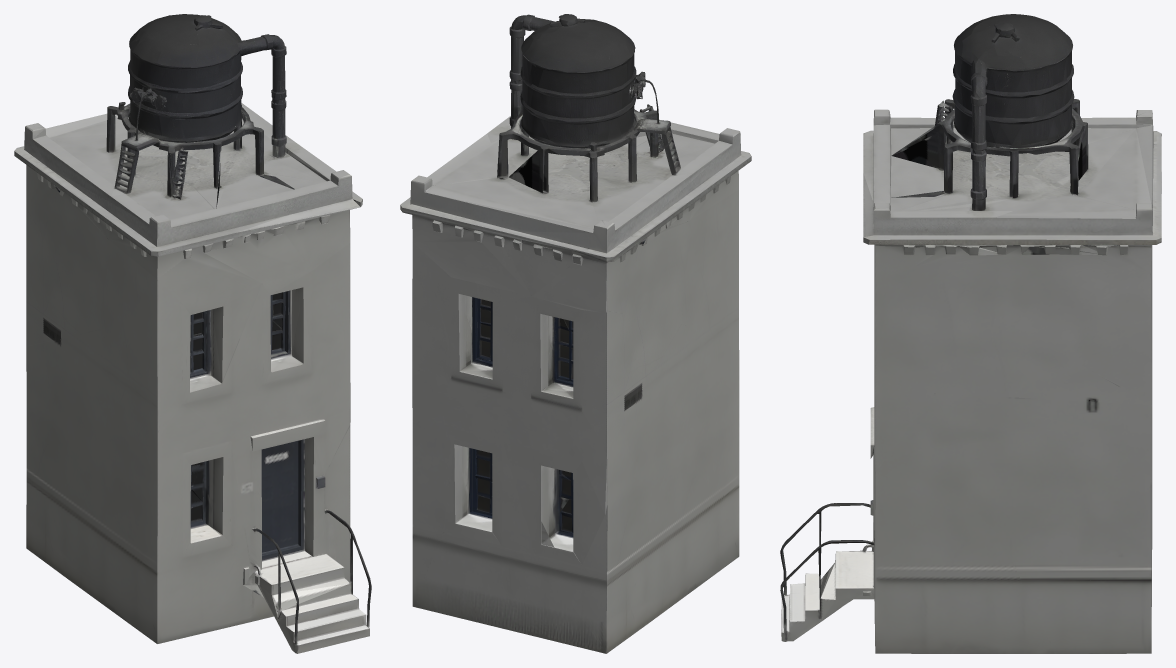
3 renders of one model, left to right at view 1: azimuth 30°, elevation 25°; view 2: azimuth 150°, elevation 25°; view 3: azimuth 270°, elevation 25°, orthographic. The views are drawn at different scales.
Visible parts, largest first — view 1: output_unwrapped; view 2: output_unwrapped; view 3: output_unwrapped.
Boxes of the visible parts, bbox=[...] form: output_unwrapped: bbox=[14, 14, 371, 653]; output_unwrapped: bbox=[400, 14, 751, 653]; output_unwrapped: bbox=[780, 14, 1161, 653].
Bounding box in the file's own units: 0.7586 × 1.9 × 1.12.
Materials: 1 (1 with a texture image).
